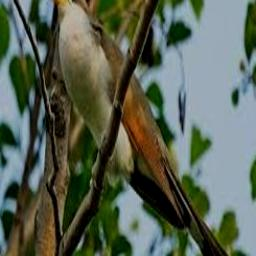Cuckoo: (46, 0, 247, 256)
